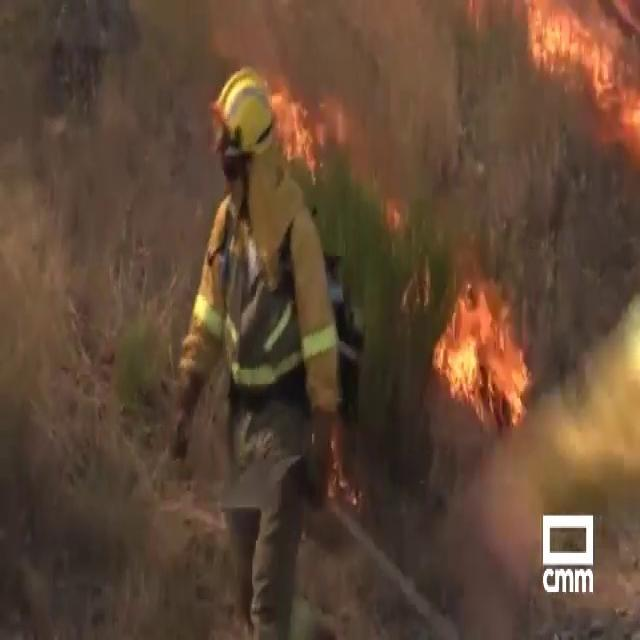Fire: (423, 273, 538, 438), (524, 0, 640, 139)
